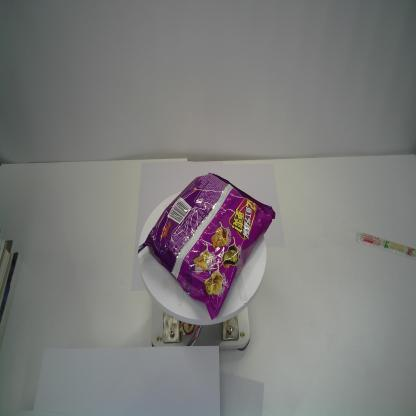Instant Noodles: (137, 172, 276, 321)
